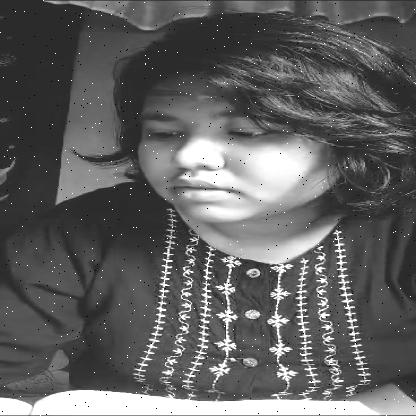Distracted: (128, 74, 355, 223)
